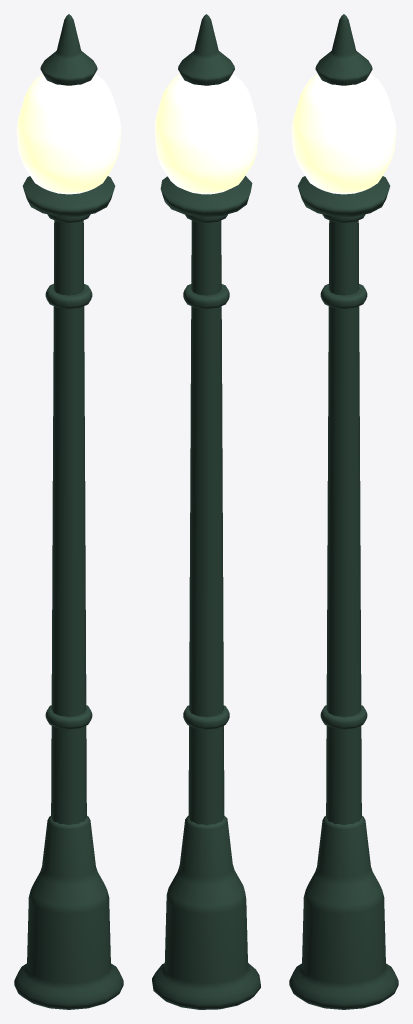
Rendered from st_street_lamp__346.glb.
The picture shows the model from 3 angles, left to right: view 1: azimuth 90°, elevation 25°; view 2: azimuth 150°, elevation 25°; view 3: azimuth 270°, elevation 25°; orthographic projection.
Parts seen in each view (by area): view 1: merged_toon_2E4A3E, globe; view 2: merged_toon_2E4A3E, globe; view 3: merged_toon_2E4A3E, globe.
Part boxes in pixels (<box>): merged_toon_2E4A3E: <box>14,14,123,1009</box>; globe: <box>16,73,121,194</box>; merged_toon_2E4A3E: <box>152,14,260,1009</box>; globe: <box>154,73,258,194</box>; merged_toon_2E4A3E: <box>289,14,398,1009</box>; globe: <box>291,73,396,194</box>.
Bounding box in the file's own units: 0.52 × 5.1 × 0.52.
